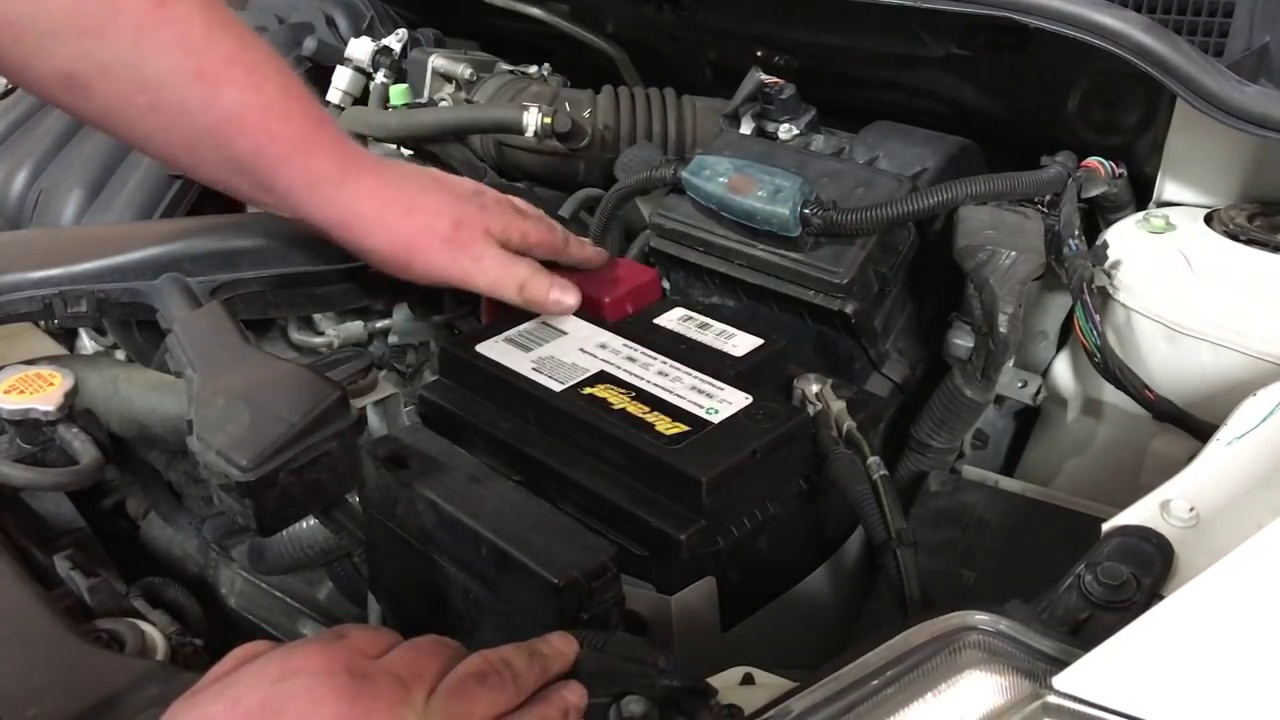battery: (443, 288, 855, 482)
neg_connected: (788, 352, 888, 465)
pos_touched: (455, 191, 658, 338)
